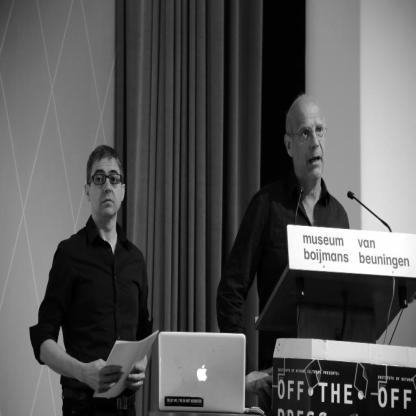board: (158, 328, 245, 412)
